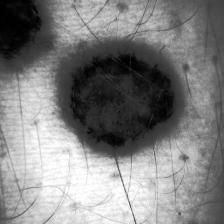Benign Marking or Mole: (67, 50, 176, 148), (0, 0, 54, 69)
